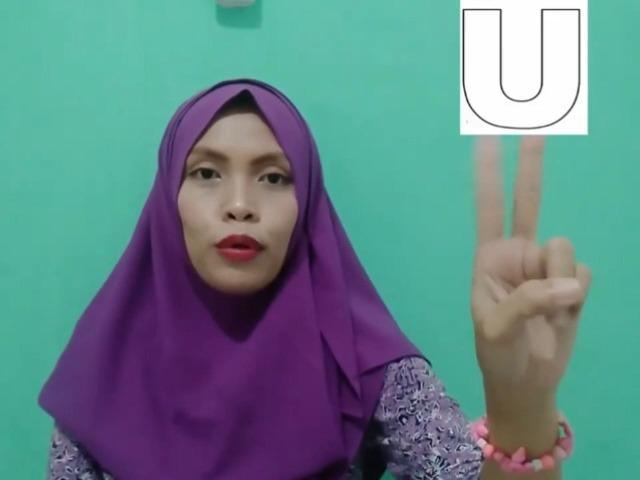U: (465, 132, 601, 398)
